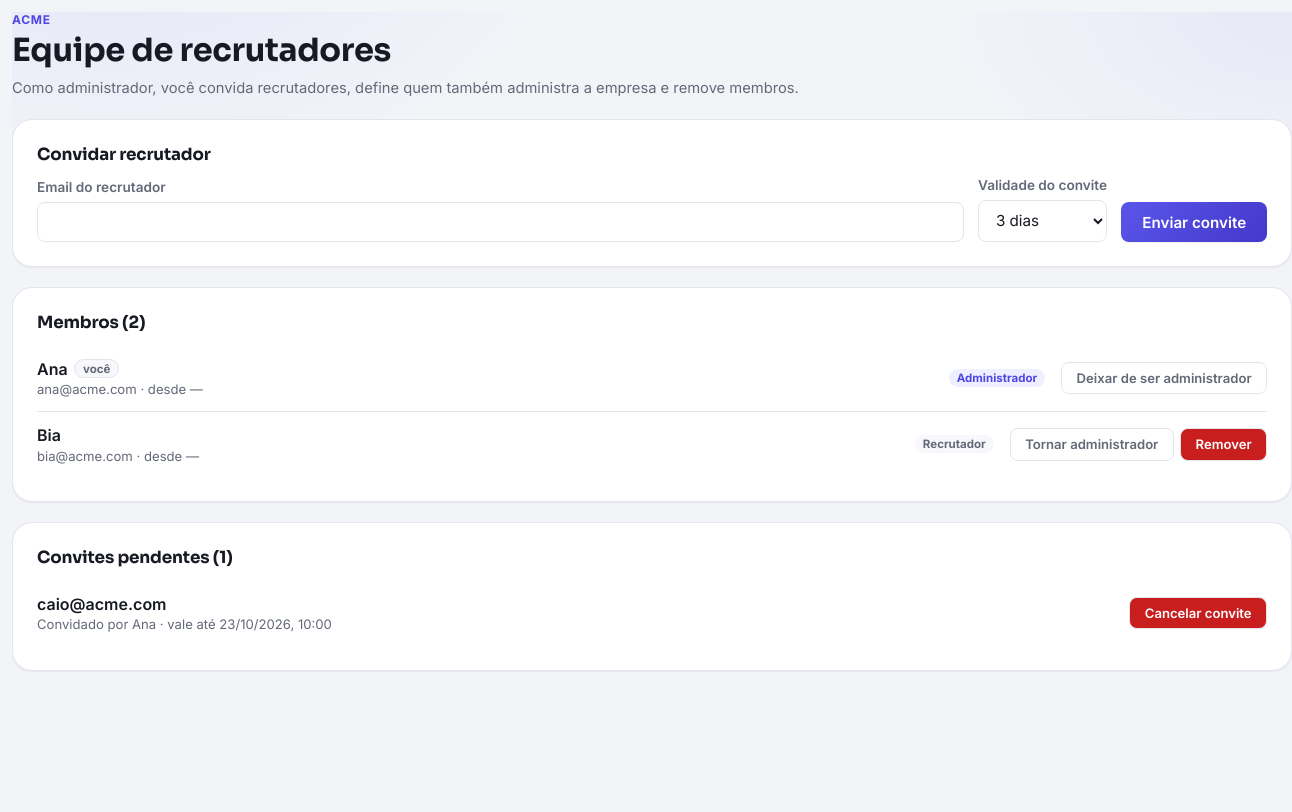
Scenario: TeamPage › erro de regra (ex.: último administrador) aparece na tela
Expected: the text "Bia" is shown, [37,425,61,445]
Step 1. Click the button "Deixar de ser administrador" → click(1164, 378), box [1061,362,1267,394]
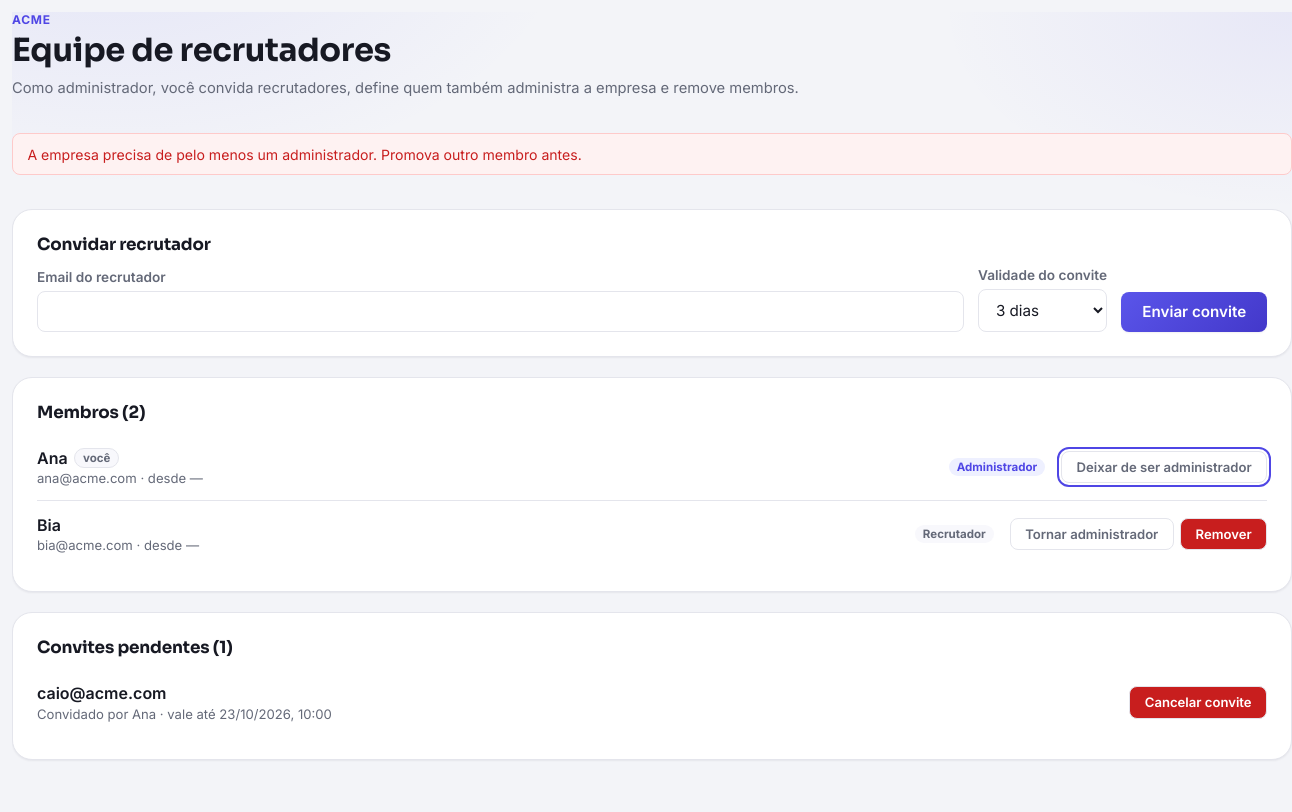
Now the text "A empresa precisa de pelo menos um administrador. Promova outro membro antes." is shown, box [12,134,1291,175]
